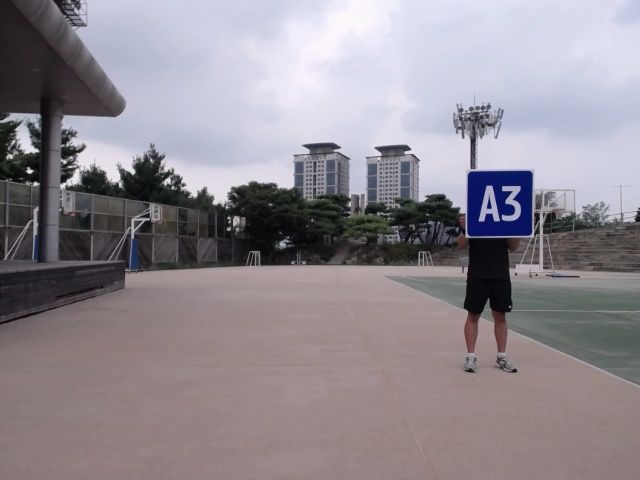delivery_a3: (465, 169, 534, 238)
